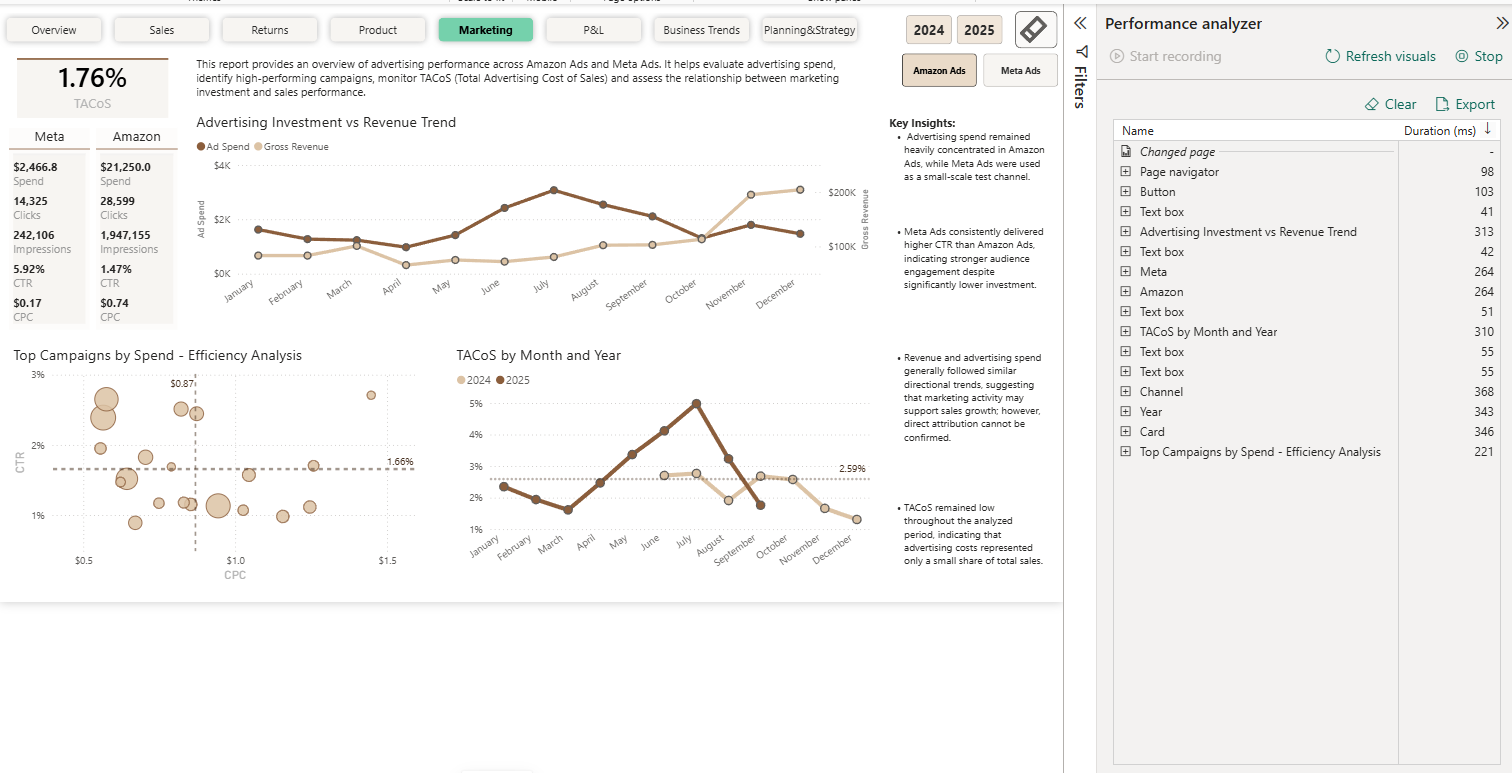

This screenshot's page, from the dashboard's own definition file:
{"tool":"powerbi","page":{"name":"Marketing","canvas":[1280,720],"ordinal":4},"visuals":[{"type":"pageNavigator","box":[0,8.2,1047.3,45.8],"z":0},{"type":"advancedSlicerVisual","fields":{"Values":["dim_date.year_number"]},"box":[1086.7,8.2,127.4,45.8],"z":1000},{"type":"actionButton","box":[1222.3,8.2,51.3,44.9],"z":2000},{"type":"multiRowCard","title":"Amazon","fields":{"Values":["_measures.Amazon Spend","_measures.Amazon Clicks","_measures.Amazon Impressions","_measures.Amazon CTR (Click-Through Rate)","_measures.Amazon CPC (Cost Per Click)"]},"box":[115.4,148.5,98.4,244.1],"z":3000},{"type":"multiRowCard","title":"Meta","fields":{"Values":["_measures.Meta Spend","_measures.Meta Clicks","_measures.Meta Impressions","_measures.Meta CTR (Click-Through Rate)","_measures.Meta CPC (Cost Per Click)"]},"box":[10.4,148.5,97.4,244.1],"z":4000},{"type":"lineChart","title":"Advertising Investment vs Revenue Trend","fields":{"Y":["_measures.Total Ad Spend (Combined)"],"Category":["dim_date.month_name"],"Y2":["_measures.Total Gross Revenue"]},"box":[230.8,128.7,821.2,263.9],"z":5000},{"type":"scatterChart","title":"Top Campaigns by Spend - Efficiency Analysis","fields":{"X":["_measures.CPC (Cost Per Click)"],"Size":["_measures.Total Ad Spend (Combined)"],"Y":["_measures.CTR (Click-Through Rate)"],"Category":["dim_campaign.campaign_id"]},"box":[10.4,409.6,509,291.4],"z":6000},{"type":"cardVisual","fields":{"Data":["_measures.TACoS"]},"box":[9.5,53.9,204.3,94.6],"z":7000},{"type":"advancedSlicerVisual","fields":{"Values":["dim_campaign.channel"]},"box":[1086.7,56.8,193.3,44],"z":8000},{"type":"textbox","box":[230.8,57.7,796.6,62.4],"z":9000},{"type":"lineChart","fields":{"Y":["_measures.TACoS"],"Category":["dim_date.month_name"],"Series":["dim_date.year_number"]},"box":[544,409.6,508,291.4],"z":10000},{"type":"textbox","box":[1066.2,128.7,198.7,108.8],"z":11000},{"type":"textbox","box":[1066.2,259.5,198.7,130.6],"z":12000},{"type":"textbox","box":[1066.2,412.2,198.7,158],"z":13000},{"type":"textbox","box":[1066.2,592.2,198.7,108.8],"z":14000}]}

Visuals, with their boxes on the page's 1280x720 design canvas (x1, y1, x2, y2). These are canvas units, not pixel positions in the 1512x773 screenshot, which may show the page scaled, cropped or inside an application window:
pageNavigator: [x1=0, y1=8, x2=1047, y2=54]
advancedSlicerVisual - dim_date.year_number: [x1=1087, y1=8, x2=1214, y2=54]
actionButton: [x1=1222, y1=8, x2=1274, y2=53]
"Amazon" multiRowCard: [x1=115, y1=148, x2=214, y2=393]
"Meta" multiRowCard: [x1=10, y1=148, x2=108, y2=393]
"Advertising Investment vs Revenue Trend" lineChart: [x1=231, y1=129, x2=1052, y2=393]
"Top Campaigns by Spend - Efficiency Analysis" scatterChart: [x1=10, y1=410, x2=519, y2=701]
cardVisual - _measures.TACoS: [x1=10, y1=54, x2=214, y2=148]
advancedSlicerVisual - dim_campaign.channel: [x1=1087, y1=57, x2=1280, y2=101]
textbox: [x1=231, y1=58, x2=1027, y2=120]
lineChart - _measures.TACoS x dim_date.month_name: [x1=544, y1=410, x2=1052, y2=701]
textbox: [x1=1066, y1=129, x2=1265, y2=238]
textbox: [x1=1066, y1=260, x2=1265, y2=390]
textbox: [x1=1066, y1=412, x2=1265, y2=570]
textbox: [x1=1066, y1=592, x2=1265, y2=701]
